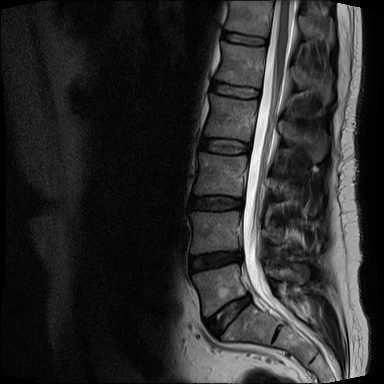Lumbar Disc Bulge (LDB): (196, 291, 258, 345), (183, 244, 248, 279)
Normal IVD: (180, 190, 247, 217), (202, 76, 265, 104), (194, 134, 255, 159), (215, 28, 273, 49)
Spinal Stenosis (SS): (228, 243, 248, 269), (240, 287, 257, 311)
